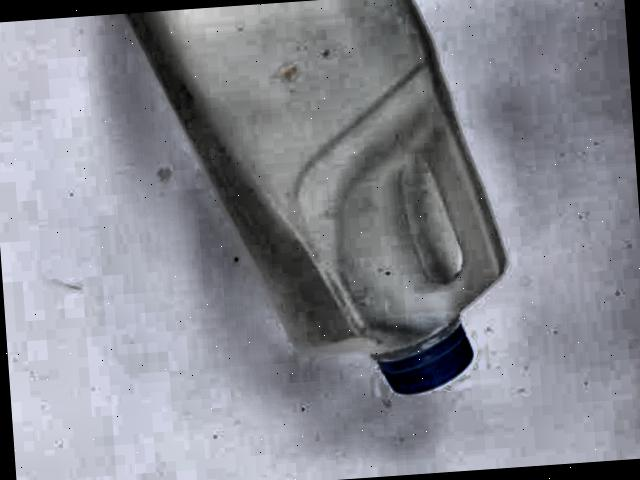Plastic: (12, 0, 545, 426)
